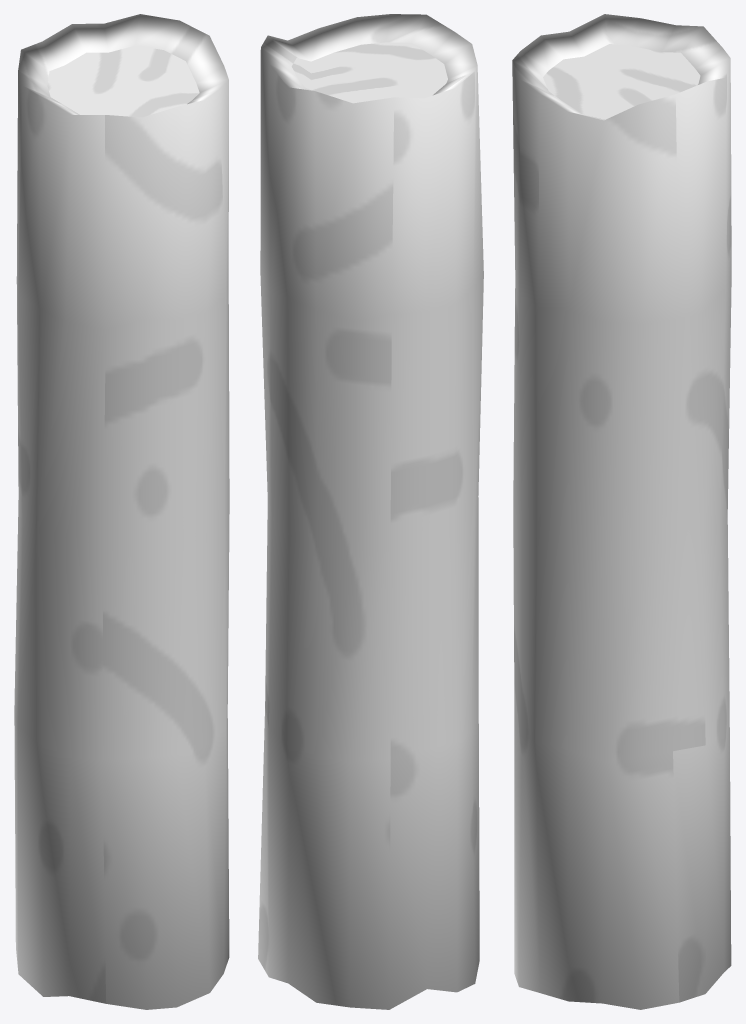
File: log.fbx
3 renders of one model, left to right at view 1: azimuth 30°, elevation 25°; view 2: azimuth 150°, elevation 25°; view 3: azimuth 270°, elevation 25°, orthographic.
Parts seen in each view (by area): view 1: Cylinder; view 2: Cylinder; view 3: Cylinder.
Boxes of the visible parts, left/top/right/bottom form: Cylinder: left=14, top=14, right=229, bottom=1009; Cylinder: left=258, top=14, right=483, bottom=1009; Cylinder: left=512, top=14, right=731, bottom=1009.
Bounding box in the file's own units: 33.24 × 153 × 32.99.
